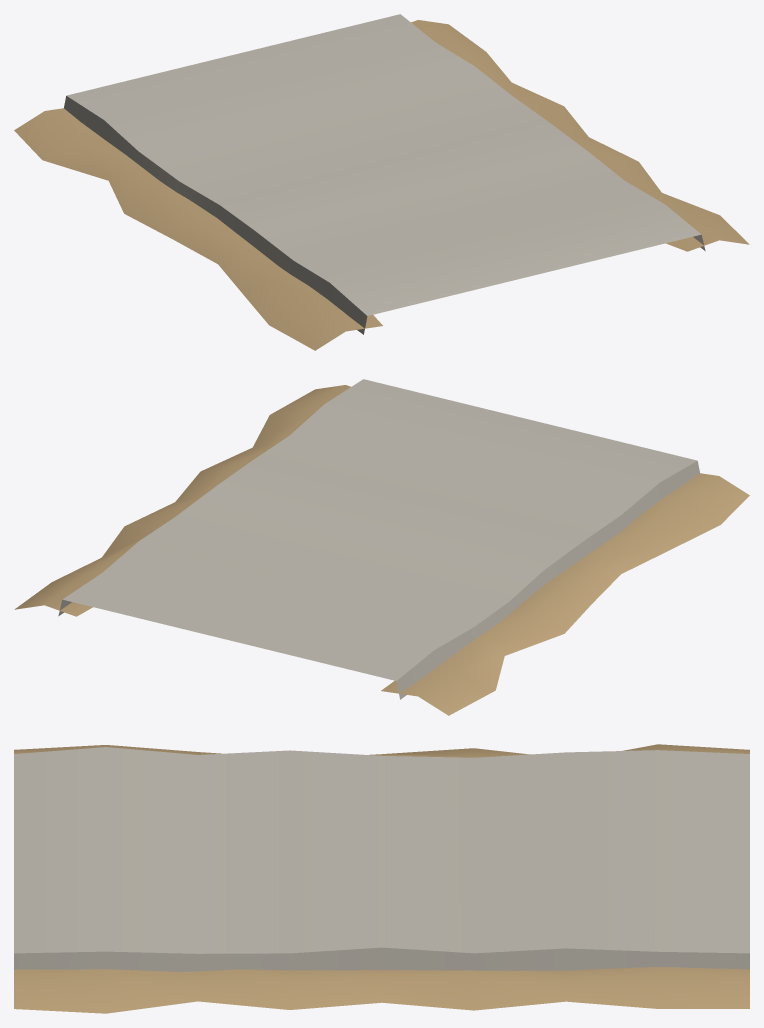
The model's file is Building_mode_L2_Road003.fbx.
3 renders of one model, top to bottom at view 1: azimuth 30°, elevation 25°; view 2: azimuth 150°, elevation 25°; view 3: azimuth 270°, elevation 25°, orthographic. The views are drawn at different scales.
Parts seen in each view (by area): view 1: Building_mode_L2_Road003; view 2: Building_mode_L2_Road003; view 3: Building_mode_L2_Road003.
Boxes of the visible parts, x1=… form: Building_mode_L2_Road003: x1=14, y1=14, x2=749, y2=350; Building_mode_L2_Road003: x1=14, y1=379, x2=749, y2=715; Building_mode_L2_Road003: x1=14, y1=744, x2=749, y2=1013.
Size of the model in its own units: 2.6 by 0.1528 by 3.
